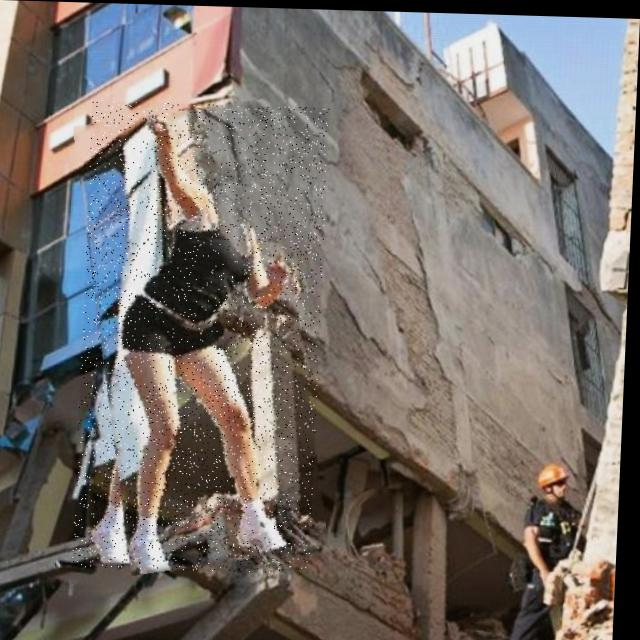Person in Rubble: (77, 100, 331, 572)
